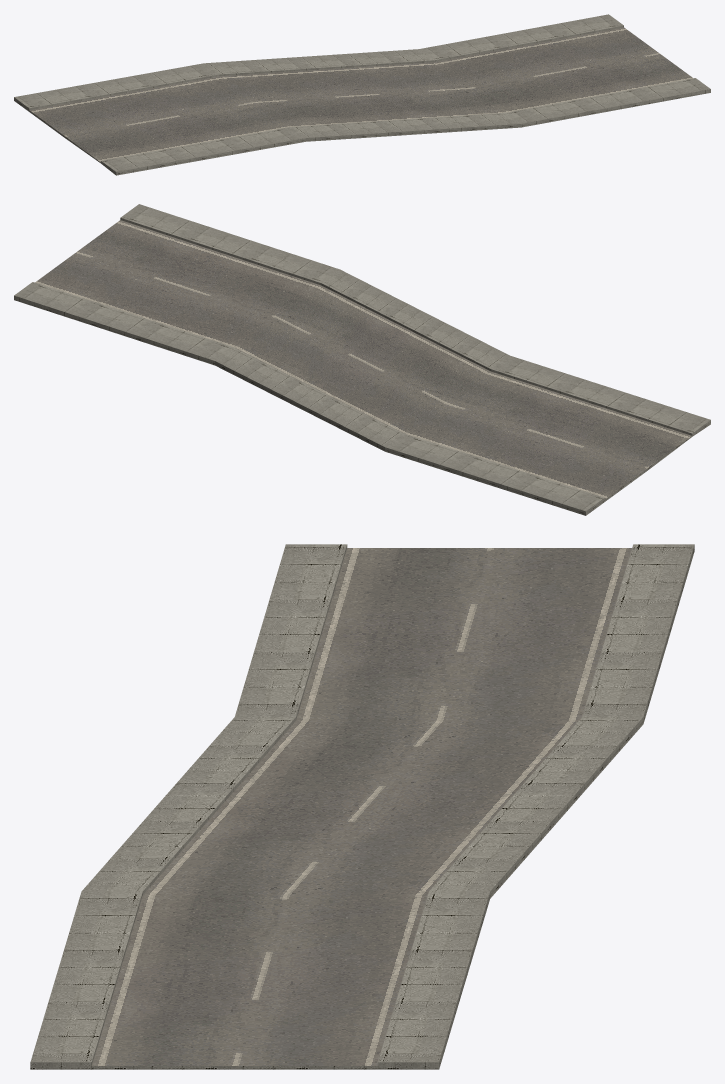
File: road_4_sheer.glb
3 views of the same model, one above another, from view 1: azimuth 30°, elevation 25°; view 2: azimuth 150°, elevation 25°; view 3: azimuth 270°, elevation 25° (orthographic). The views are drawn at different scales.
Visible parts, largest first — view 1: road_4_sheer; view 2: road_4_sheer; view 3: road_4_sheer.
Part boxes in pixels (x1,y1,x2,y2): road_4_sheer: (14, 14, 710, 175); road_4_sheer: (14, 204, 710, 515); road_4_sheer: (30, 544, 694, 1069).
Bounding box in the file's own units: 48 × 0.4 × 26.
2 materials, 2 textured.
